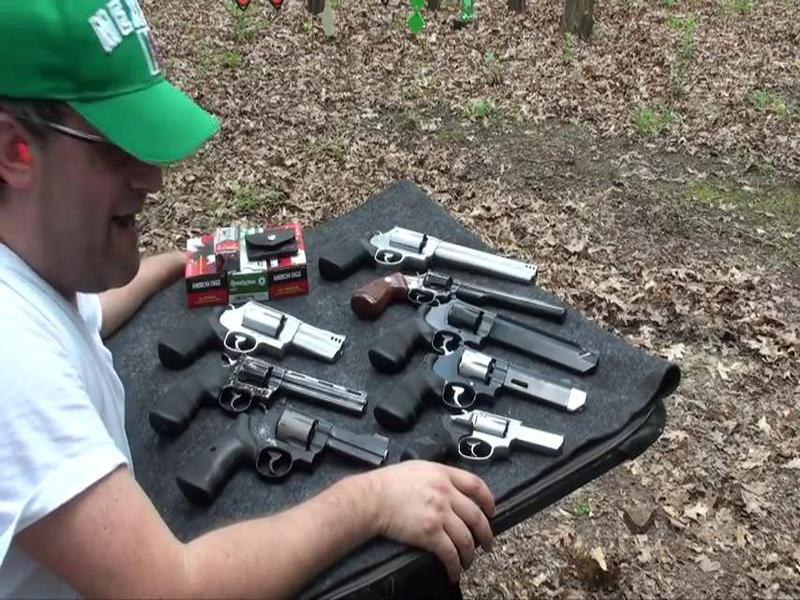Revolver: (323, 217, 548, 305)
